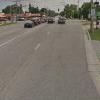Car: (21, 15, 34, 28)
